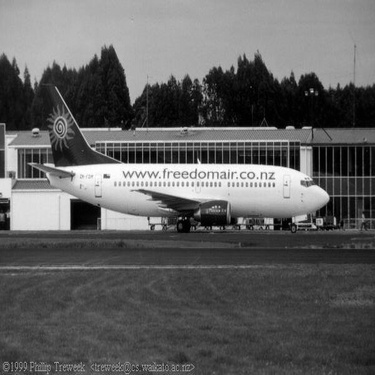airplane: (19, 67, 342, 252)
